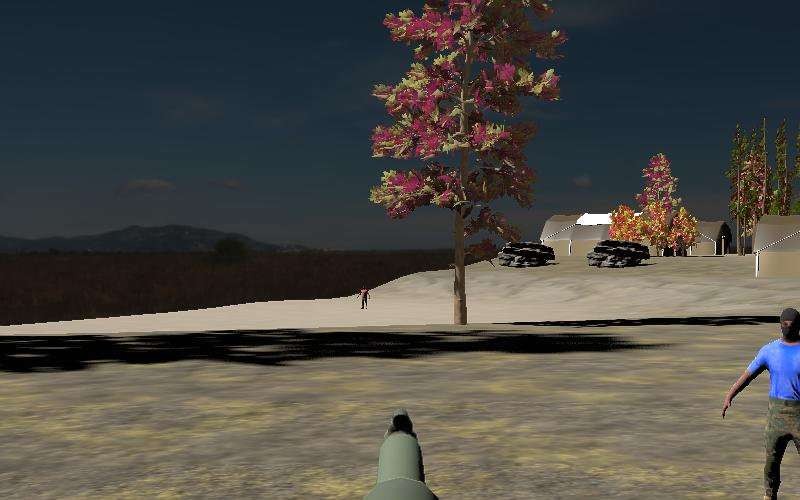Human: (718, 303, 800, 498), (357, 283, 372, 311)
